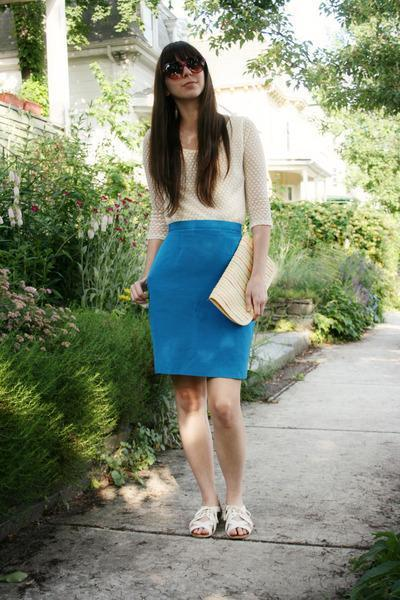bag: (209, 236, 251, 323)
shirt: (132, 115, 279, 239)
shoe: (190, 502, 254, 534)
skirt: (147, 220, 254, 380)
sunglass: (170, 67, 204, 96)
